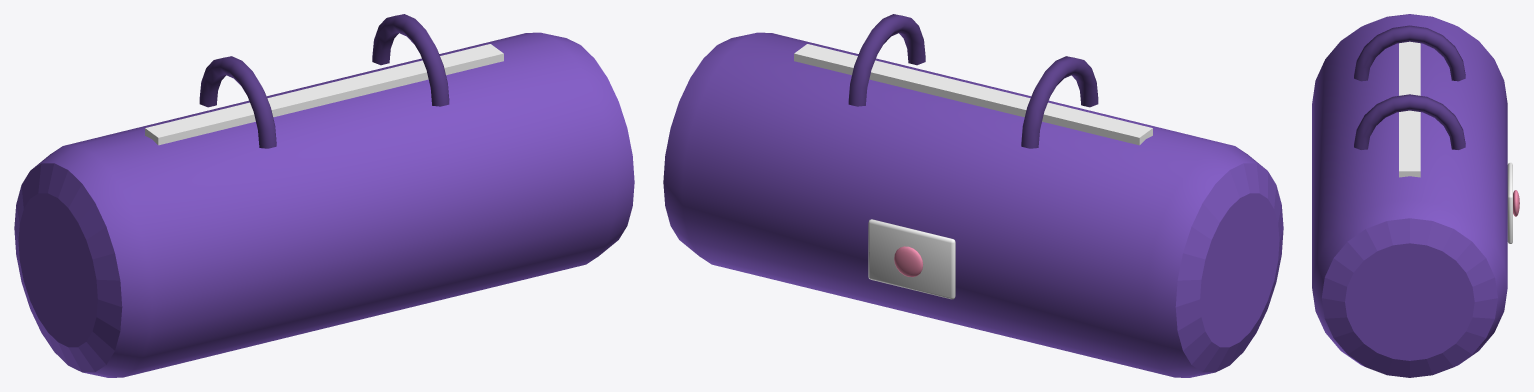
The model's file is hospital_bag.fbx.
3 views of the same model, side by side, from view 1: azimuth 30°, elevation 25°; view 2: azimuth 150°, elevation 25°; view 3: azimuth 270°, elevation 25° (orthographic). The views are drawn at different scales.
Parts seen in each view (by area): view 1: Hospital Bag; view 2: Hospital Bag; view 3: Hospital Bag.
Part boxes in pixels (x1=…): Hospital Bag: x1=14, y1=14, x2=634, y2=377; Hospital Bag: x1=663, y1=14, x2=1283, y2=377; Hospital Bag: x1=1312, y1=14, x2=1519, y2=377.
Bounding box in the file's own units: 1.85 × 0.906 × 0.765.
